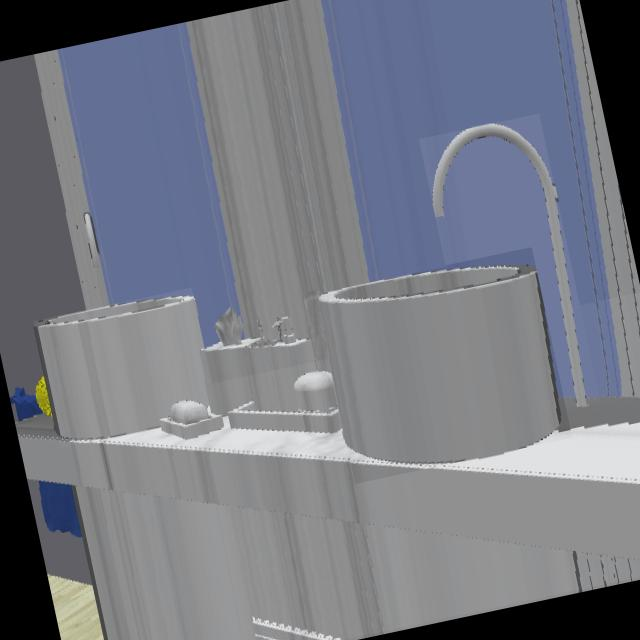shelf: (16, 424, 640, 561)
washbasin: (319, 267, 561, 463), (434, 123, 588, 405), (36, 297, 208, 437), (86, 213, 98, 257)
